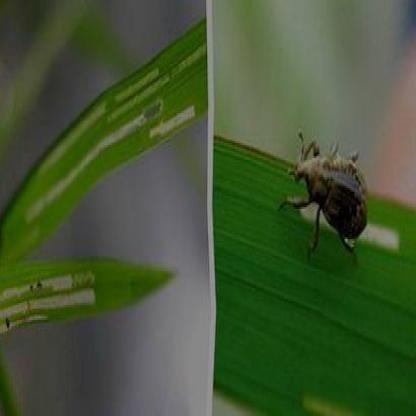rice-bug: (285, 131, 369, 245)
